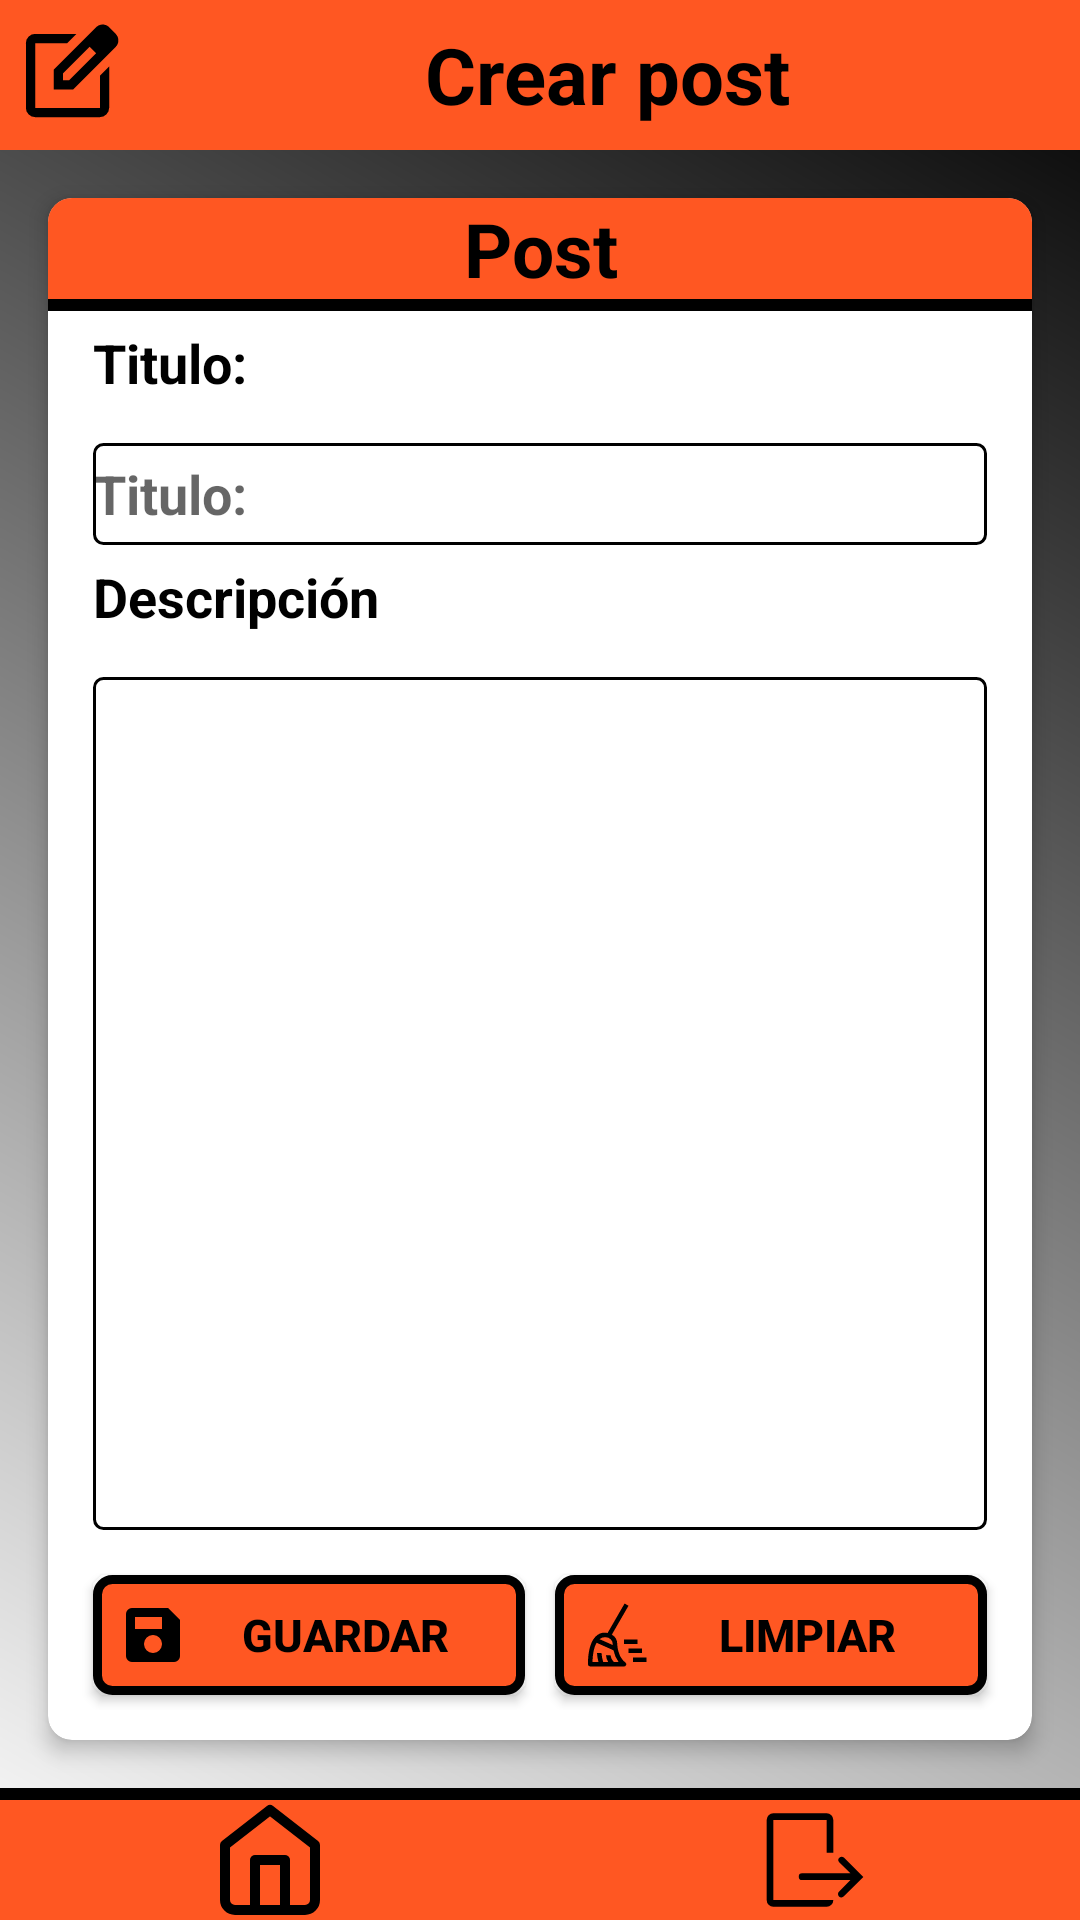

Screen size 1080 × 1920. Icon name, then its box in pixels as box=[x1, y1, x2, y2]:
edit: box=[26, 24, 119, 118]
